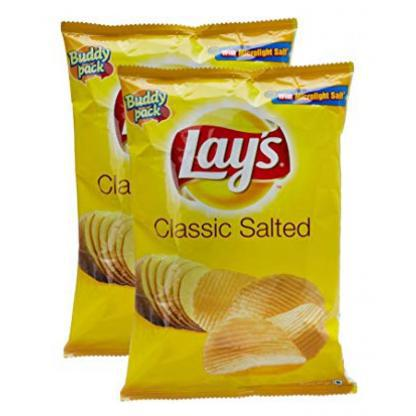classicsalted: (116, 61, 357, 402), (60, 15, 136, 360), (60, 16, 299, 67)
